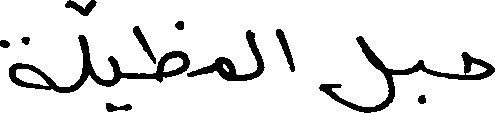ا: (277, 26, 296, 72)
ب: (416, 58, 425, 104)
ة: (0, 34, 52, 89)
ح: (463, 50, 493, 80)
ظ: (133, 18, 188, 82)
ل: (320, 34, 394, 111), (248, 27, 264, 80), (82, 0, 91, 86)
م: (216, 55, 231, 81)
ي: (108, 53, 119, 110)
